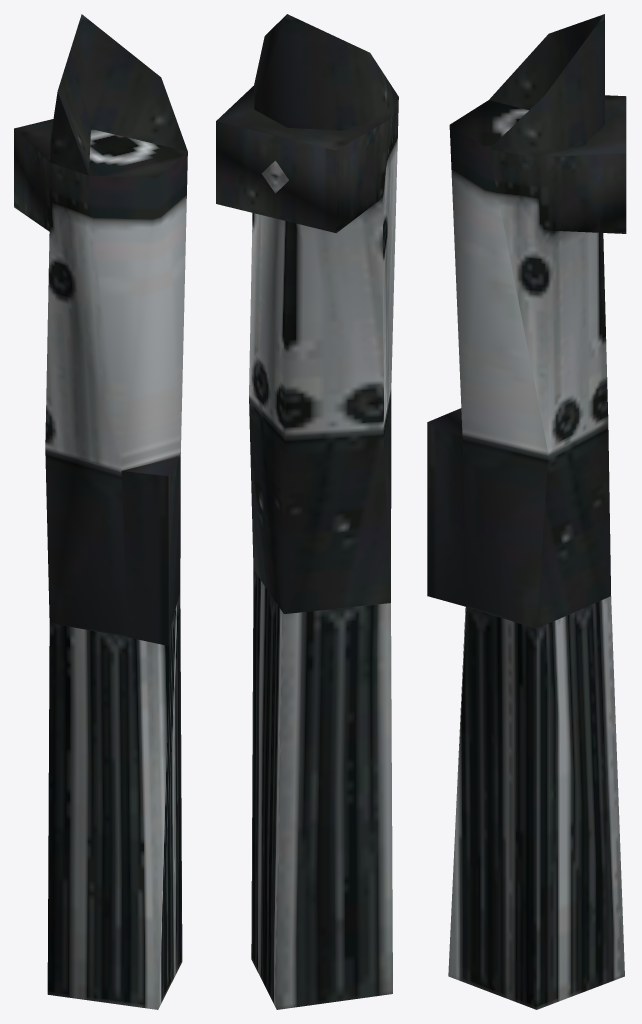
The model's file is wp_mle_2h_sword_lightsaber_vader_l2.fbx.
3 views of the same model, side by side, from view 1: azimuth 30°, elevation 25°; view 2: azimuth 150°, elevation 25°; view 3: azimuth 270°, elevation 25° (orthographic). The views are drawn at different scales.
Visible parts, largest first — view 1: mesh_node; view 2: mesh_node; view 3: mesh_node.
Boxes of the visible parts, x1,y1,x2,y2 form: mesh_node: (14, 14, 187, 1009); mesh_node: (216, 14, 398, 1009); mesh_node: (427, 14, 626, 1009).
Bounding box in the file's own units: 0.0441 × 0.2939 × 0.0555.
